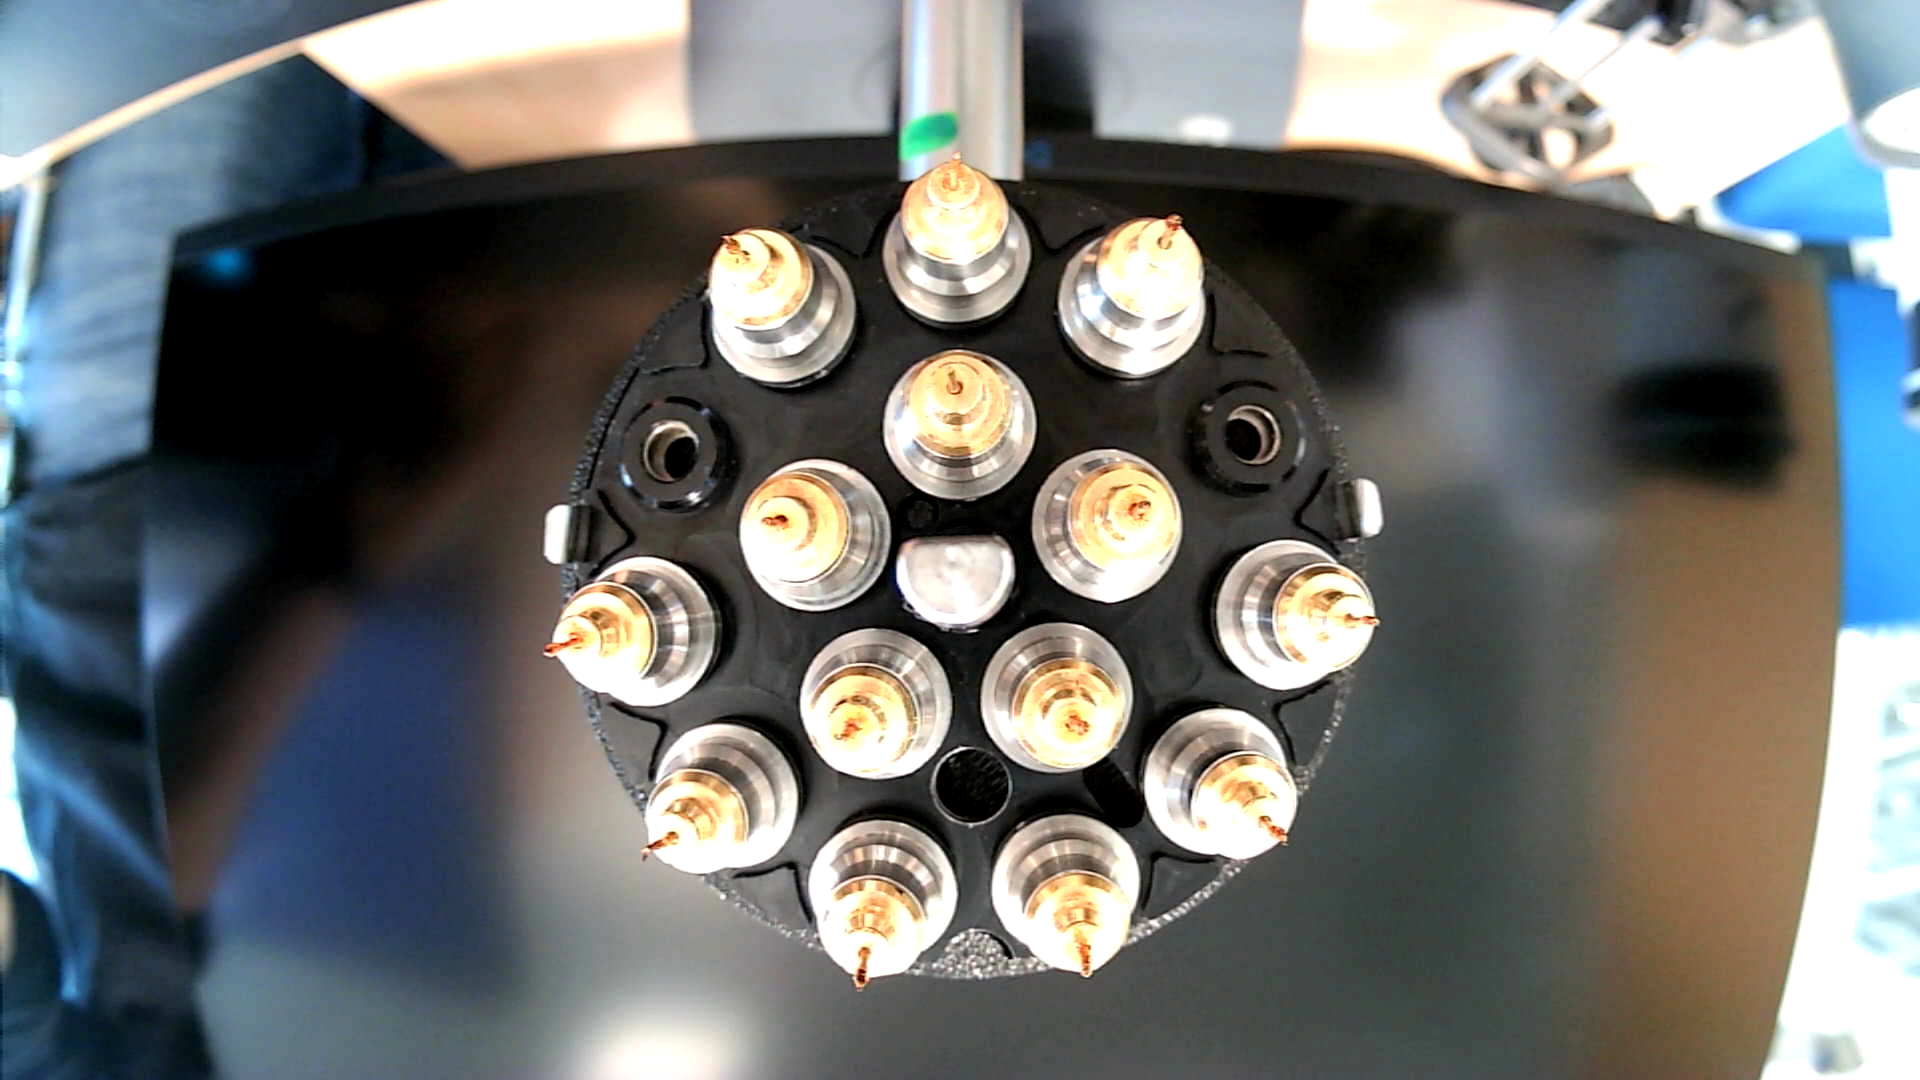empty: (1182, 377, 1313, 512), (612, 392, 745, 520)
hole: (924, 742, 1015, 831)
pin: (808, 815, 965, 997), (542, 555, 727, 709), (637, 716, 803, 878), (1209, 535, 1381, 692), (878, 152, 1031, 327), (704, 222, 860, 392), (992, 808, 1143, 982), (1139, 703, 1302, 862), (1056, 211, 1207, 382), (880, 345, 1040, 502), (794, 625, 953, 782), (978, 618, 1135, 775), (1030, 446, 1184, 605), (738, 451, 893, 611)
rod: (890, 531, 1021, 637)
